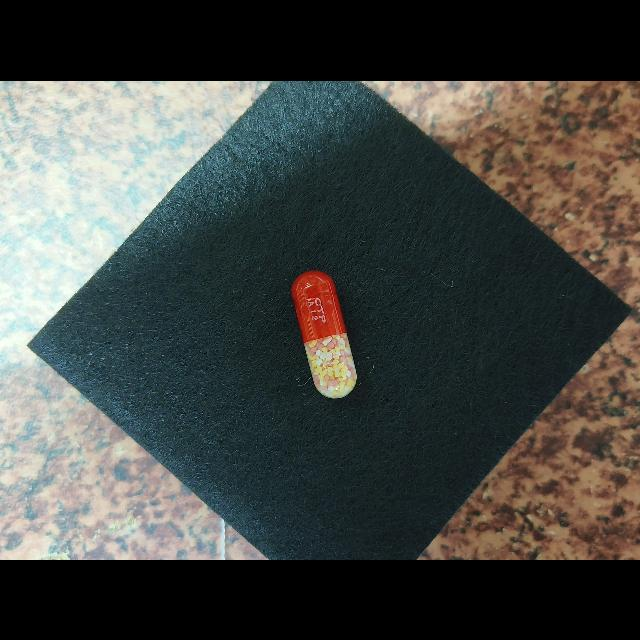Intact Capsule: (291, 270, 357, 398)
